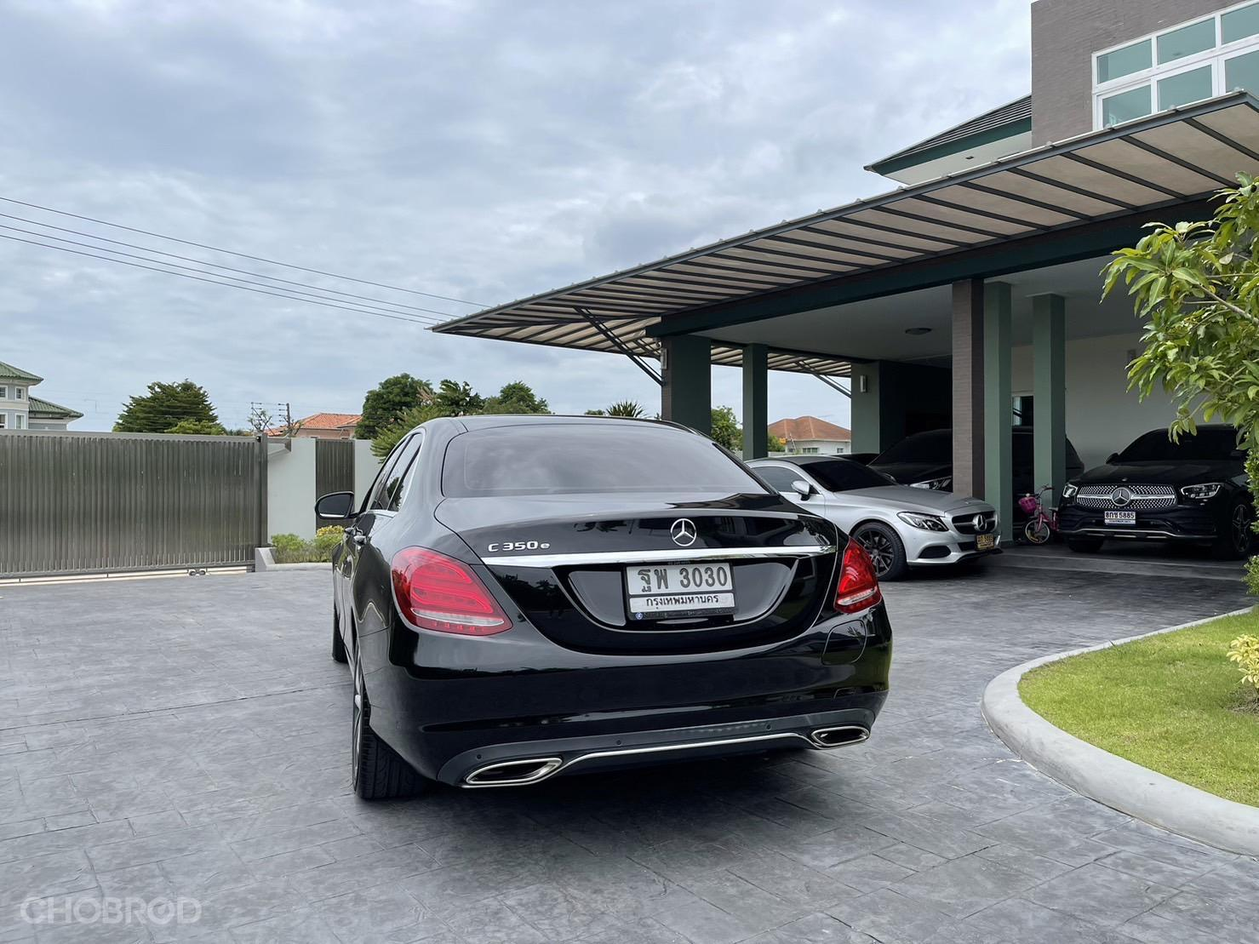license-plate: (621, 555, 741, 619), (1101, 504, 1140, 533), (975, 528, 999, 552)
